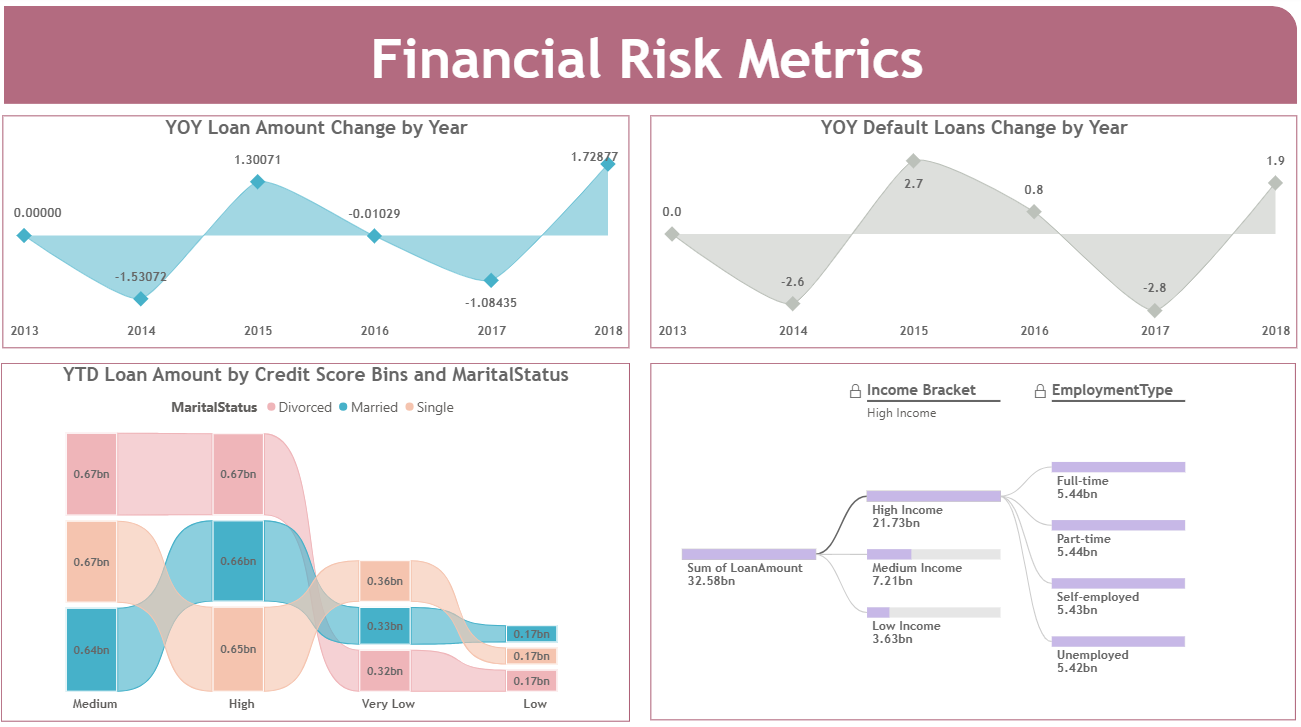

What the dashboard file says about the page in this screenshot:
{"tool":"powerbi","page":{"name":"Financial Risk Metrics","canvas":[1280,720],"ordinal":2},"visuals":[{"type":"shape","box":[8.1,11.3,1260,95.6],"z":0},{"type":"lineChart","fields":{"Y":["Measures Table3.YOY Loan Amount Change"],"Category":["Loan_default.Year"]},"box":[7.3,118.4,610.9,226.5],"z":1000},{"type":"lineChart","fields":{"Category":["Loan_default.Year"],"Y":["Measures Table3.YOY Default Loans Change"]},"box":[638.7,118.4,629.9,226.5],"z":2000},{"type":"ribbonChart","fields":{"Category":["Loan_default.Credit Score Bins"],"Series":["Loan_default.MaritalStatus"],"Y":["Measures Table3.YTD Loan Amount"]},"box":[5.8,359.5,612.4,349.3],"z":3000},{"type":"decompositionTreeVisual","fields":{"Analyze":["Sum(Loan_default.LoanAmount)"],"ExplainBy":["Loan_default.Income Bracket","Loan_default.EmploymentType"]},"box":[638.7,359.5,628.4,347.8],"z":4000}]}

Visuals, with their boxes in screenshot pixels (x1, y1, x2, y2), scaled from the page's 1280x720 canvas onto the 1301x727 screenshot:
shape: {"left": 8, "top": 11, "right": 1289, "bottom": 108}
lineChart - Measures Table3.YOY Loan Amount Change x Loan_default.Year: {"left": 7, "top": 120, "right": 628, "bottom": 348}
lineChart - Loan_default.Year x Measures Table3.YOY Default Loans Change: {"left": 649, "top": 120, "right": 1289, "bottom": 348}
ribbonChart - Loan_default.Credit Score Bins x Loan_default.MaritalStatus: {"left": 6, "top": 363, "right": 628, "bottom": 716}
decompositionTreeVisual - Sum(Loan_default.LoanAmount) x Loan_default.Income Bracket: {"left": 649, "top": 363, "right": 1288, "bottom": 714}
